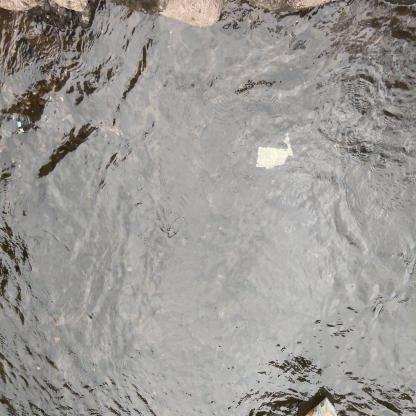Plastic: (253, 129, 297, 173), (0, 105, 33, 142)
